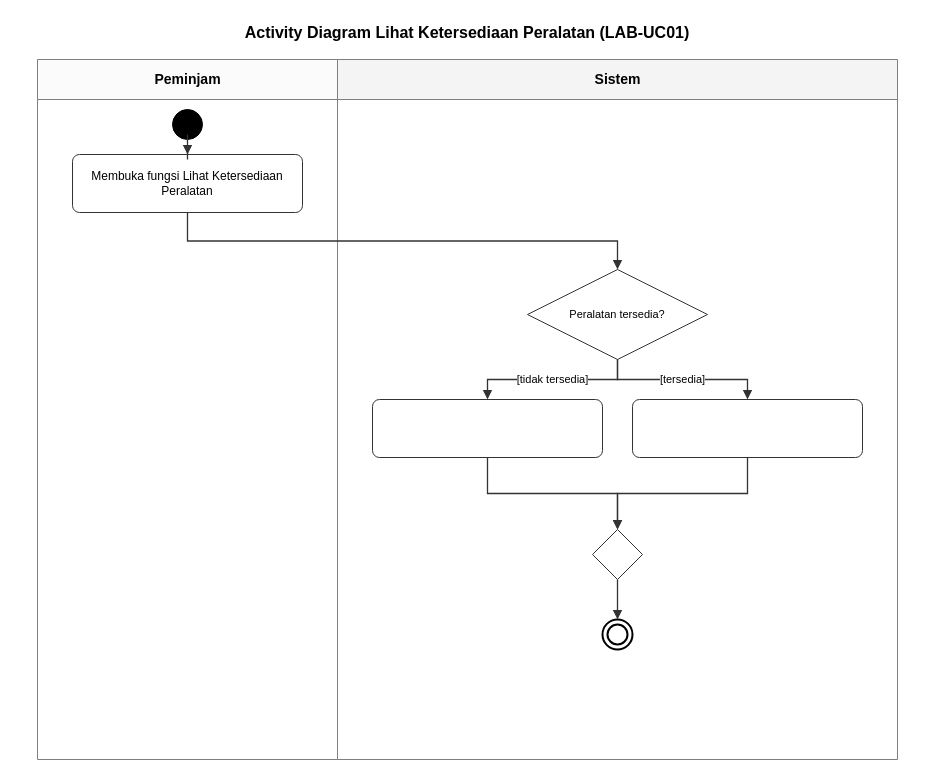
Image size: 934x777. Some labels were removed from this diagram. Here are the shapes that lost their labels. From the top down, the box of each, then its label:
(372, 398, 602, 458): Menampilkan pesan tidak ada peralatan yang tersedia
(632, 398, 862, 458): Menampilkan daftar peralatan beserta status ketersediaannya
